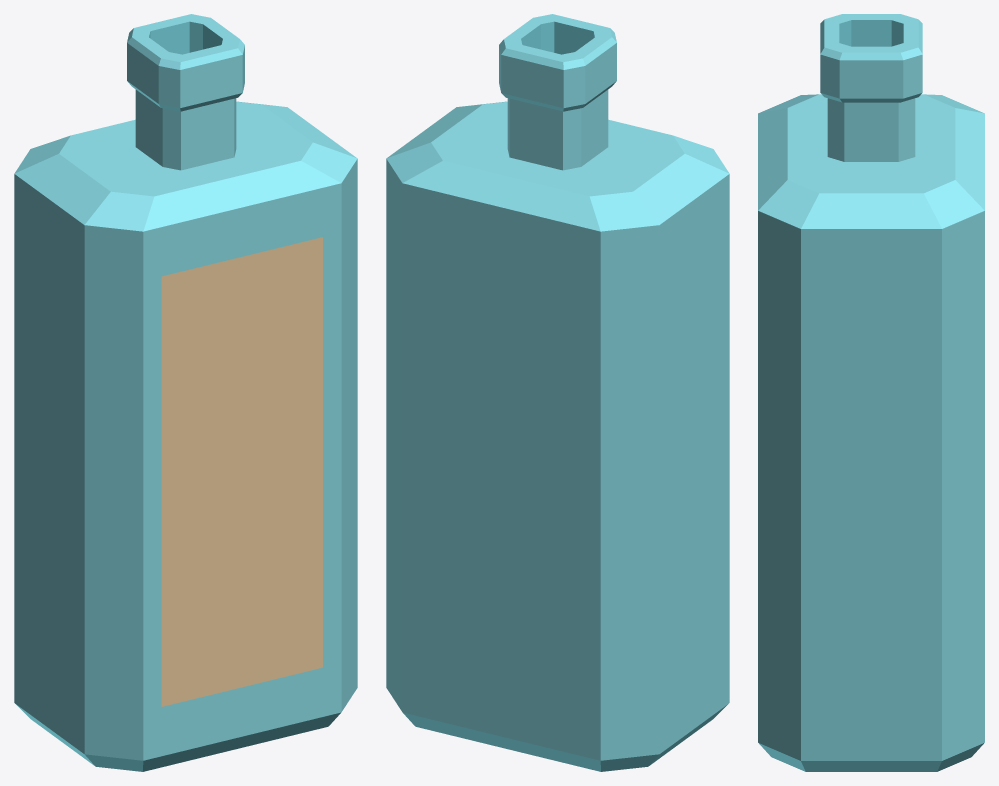
The model's file is Bottle_08.glb.
3 renders of one model, left to right at view 1: azimuth 30°, elevation 25°; view 2: azimuth 150°, elevation 25°; view 3: azimuth 270°, elevation 25°, orthographic.
Parts seen in each view (by area): view 1: Bottle_08; view 2: Bottle_08; view 3: Bottle_08.
Boxes of the visible parts, x1,y1,x2,y2 form: Bottle_08: (14,14,357,771); Bottle_08: (386,14,729,771); Bottle_08: (758,14,984,771).
Size of what is drawn, in the model's own units: 0.1871 by 0.4415 by 0.1338.
Materials: 1 (1 with a texture image).
